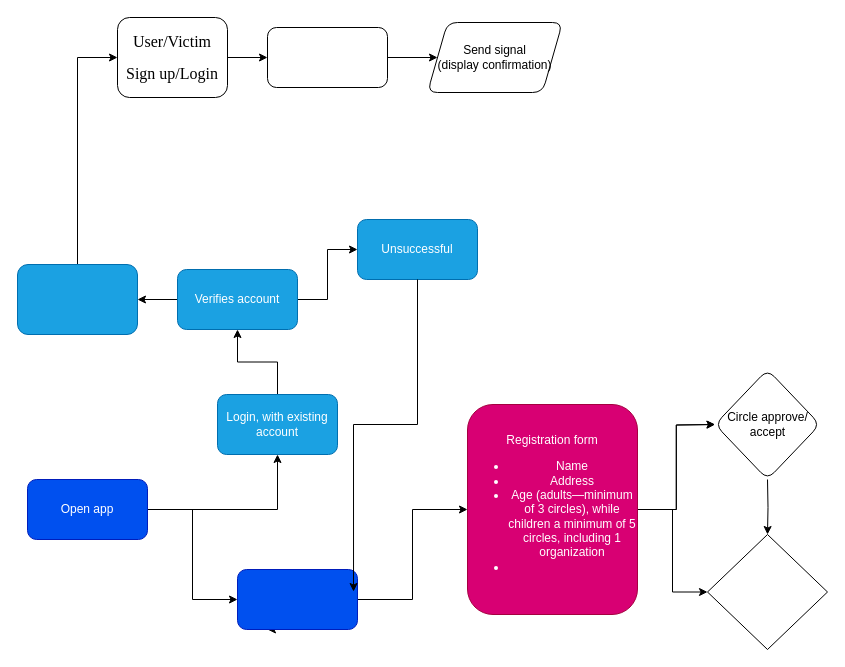
Image size: 845x667. Some labels were removed from this diagram. The shapes that lost their labels are listed below. From the top down, each one's centre as x and y in pixels, then its label:
(x=327, y=57): Press SOS button
(x=77, y=299): Successful
(x=297, y=599): Sgn up
(x=767, y=592): App validates account
